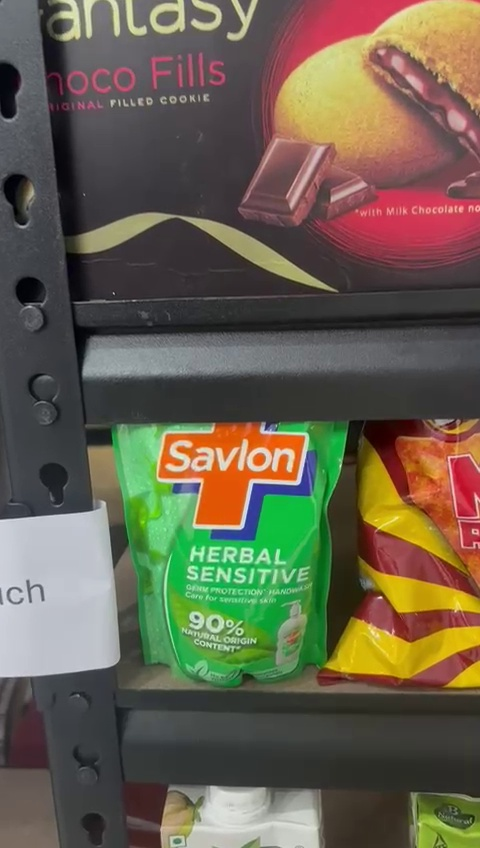Savlon Herbal: (115, 425, 345, 684)
